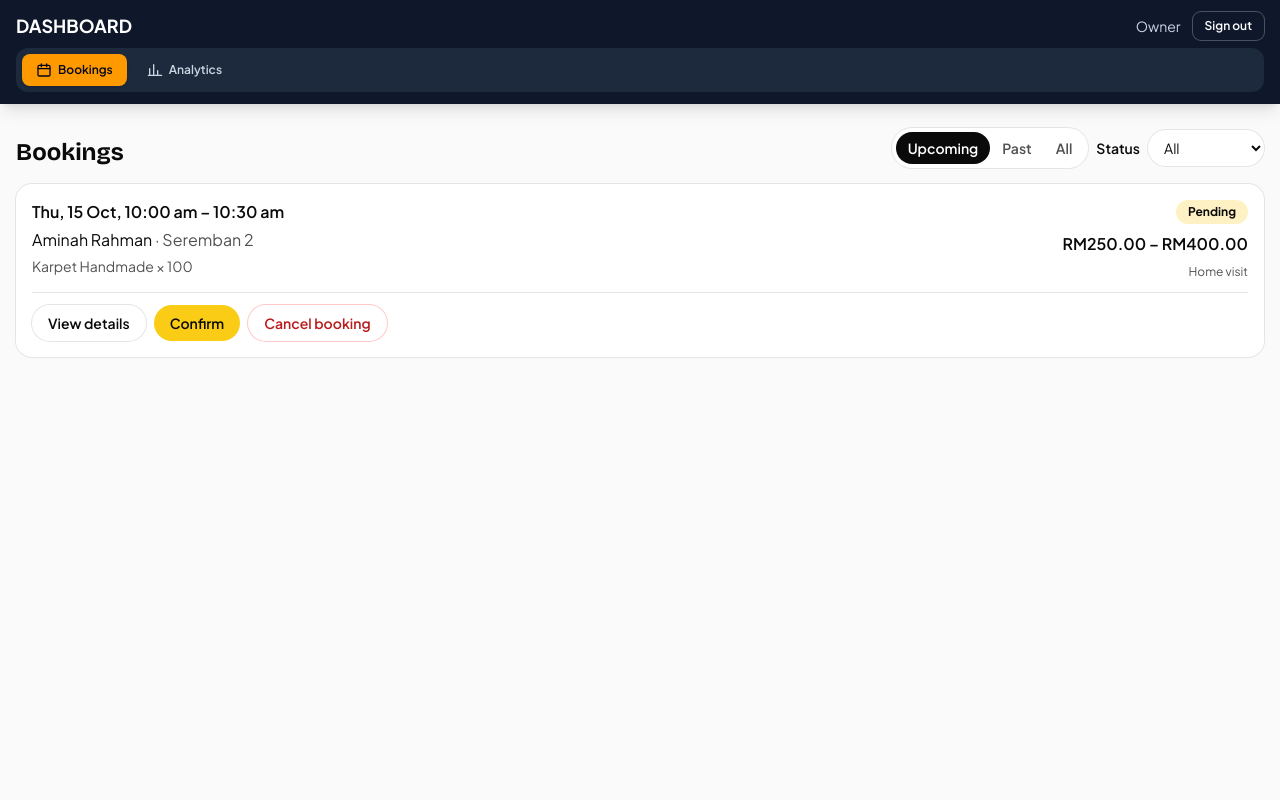
it: bookings page › says when a booking did not come from the chat
Click the button "View details".
click(89, 323)  # box [32, 305, 146, 341]
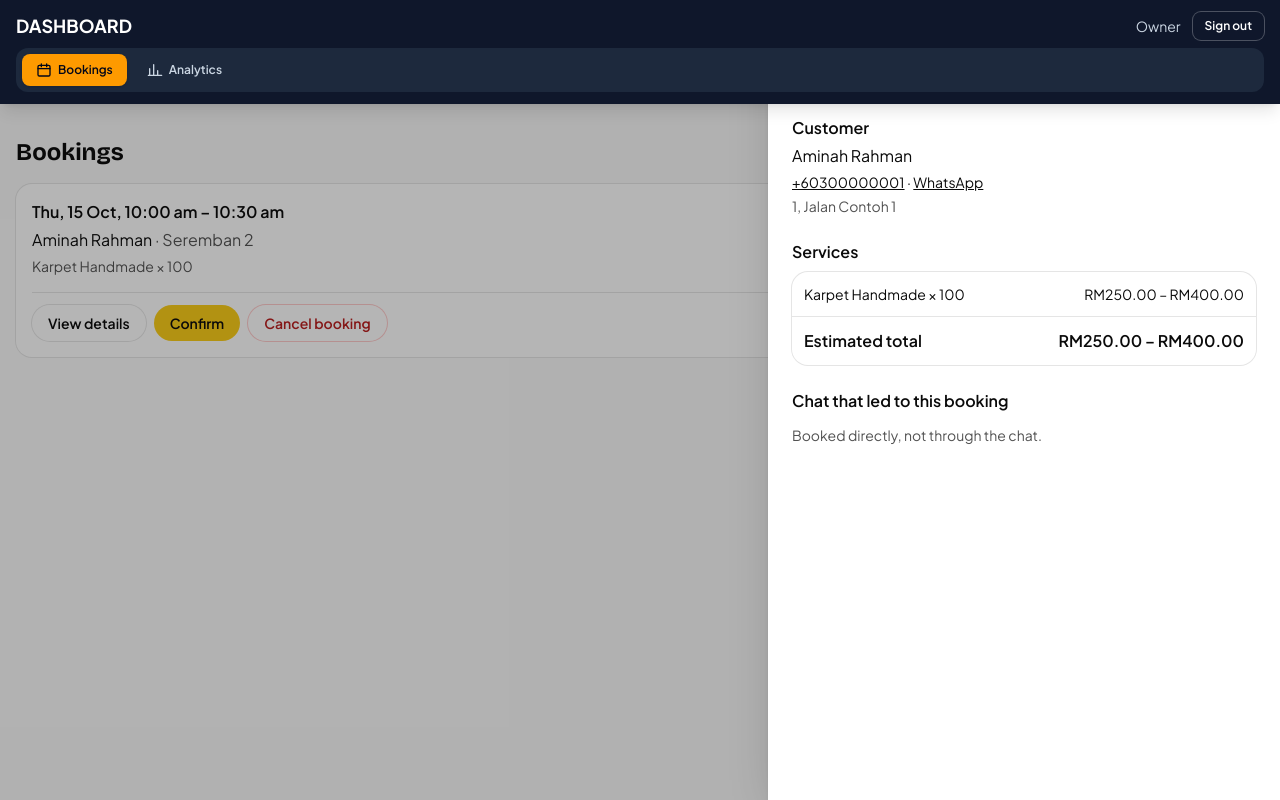
Check: the text "Booked directly, not through the chat." is shown, box [792, 426, 1042, 444]
